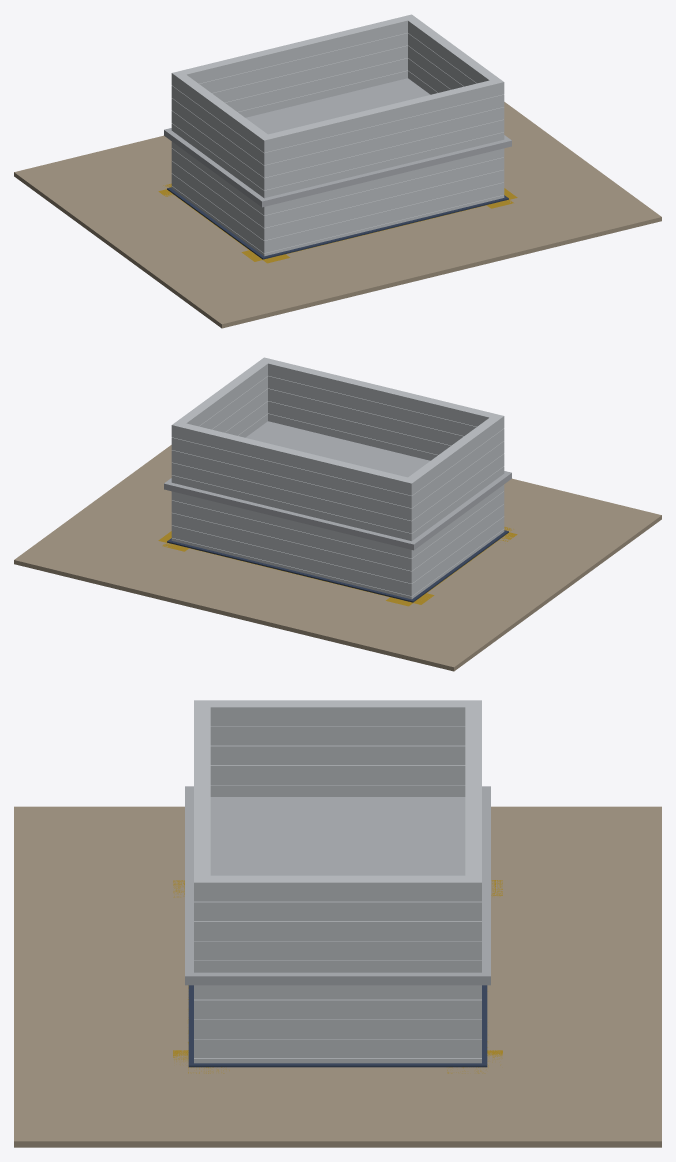
File: stage_06_walls.glb
3 renders of one model, top to bottom at view 1: azimuth 30°, elevation 25°; view 2: azimuth 150°, elevation 25°; view 3: azimuth 270°, elevation 25°, orthographic. The views are drawn at different scales.
Parts seen in each view (by area): view 1: world; view 2: world; view 3: world.
Boxes of the visible parts, <box> form: world: <box>14,14,661,328</box>; world: <box>14,357,661,671</box>; world: <box>14,700,661,1147</box>.
Size of the model in its own units: 11 by 3.6 by 9.
